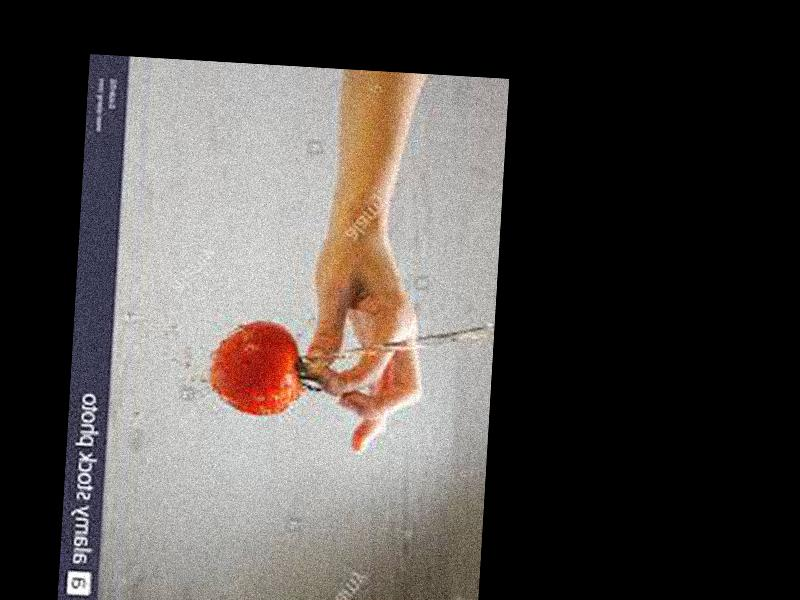Tomato: (206, 315, 303, 415)
